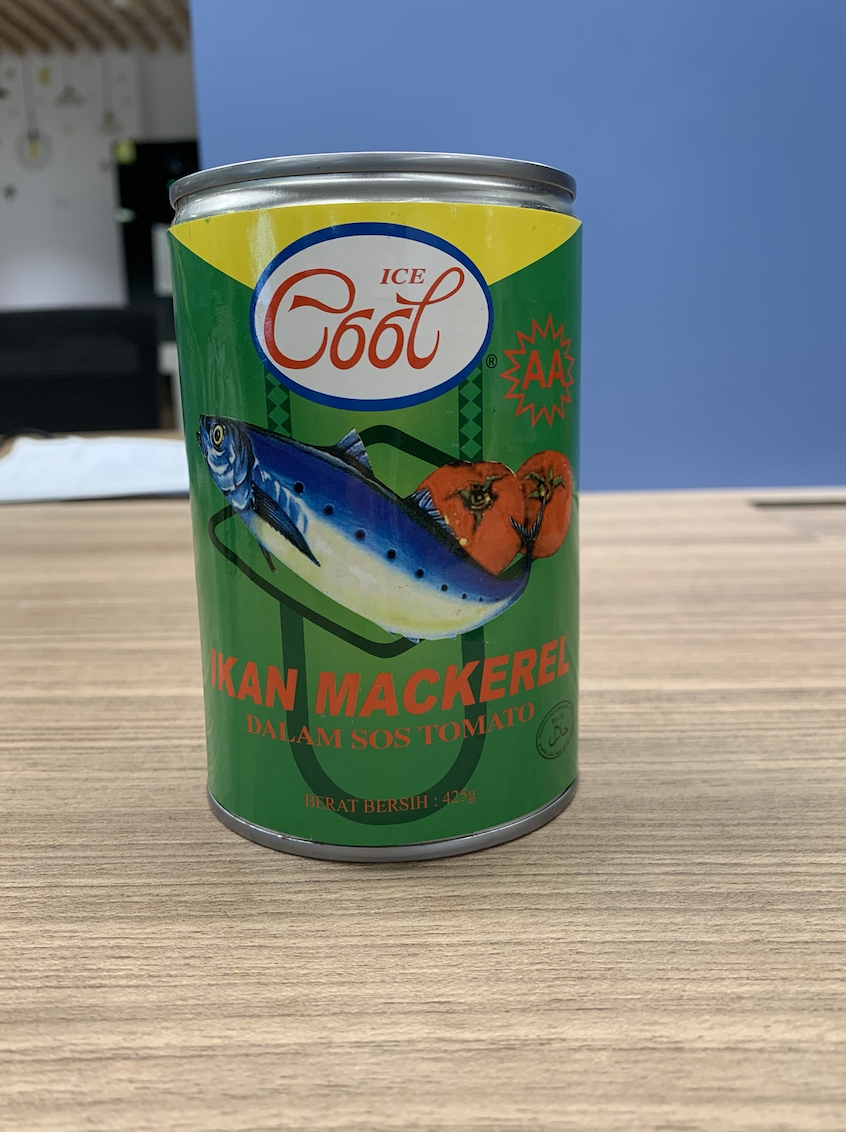halal: (548, 718, 569, 747)
